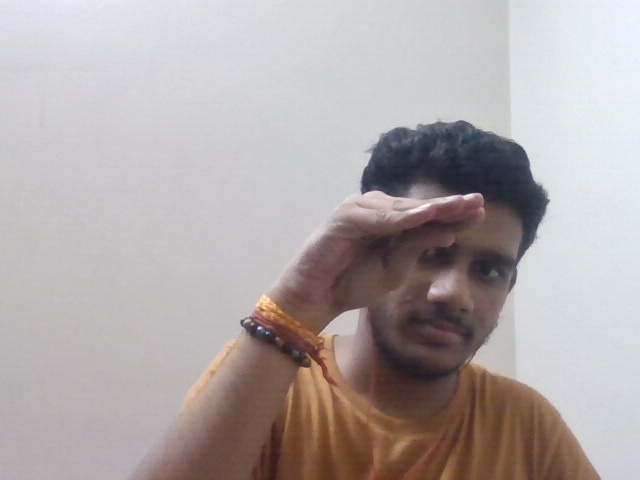no: (286, 170, 492, 332)
